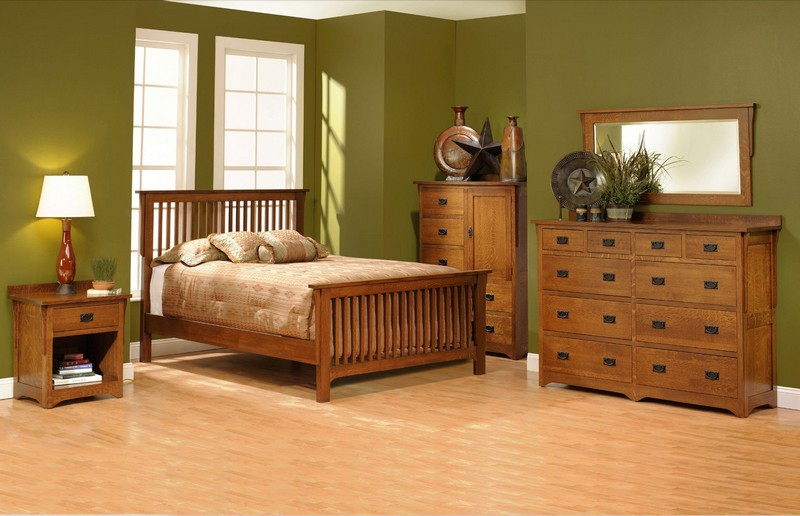bed: (135, 184, 490, 405)
lamp: (31, 166, 99, 293)
stool: (7, 282, 135, 409)
